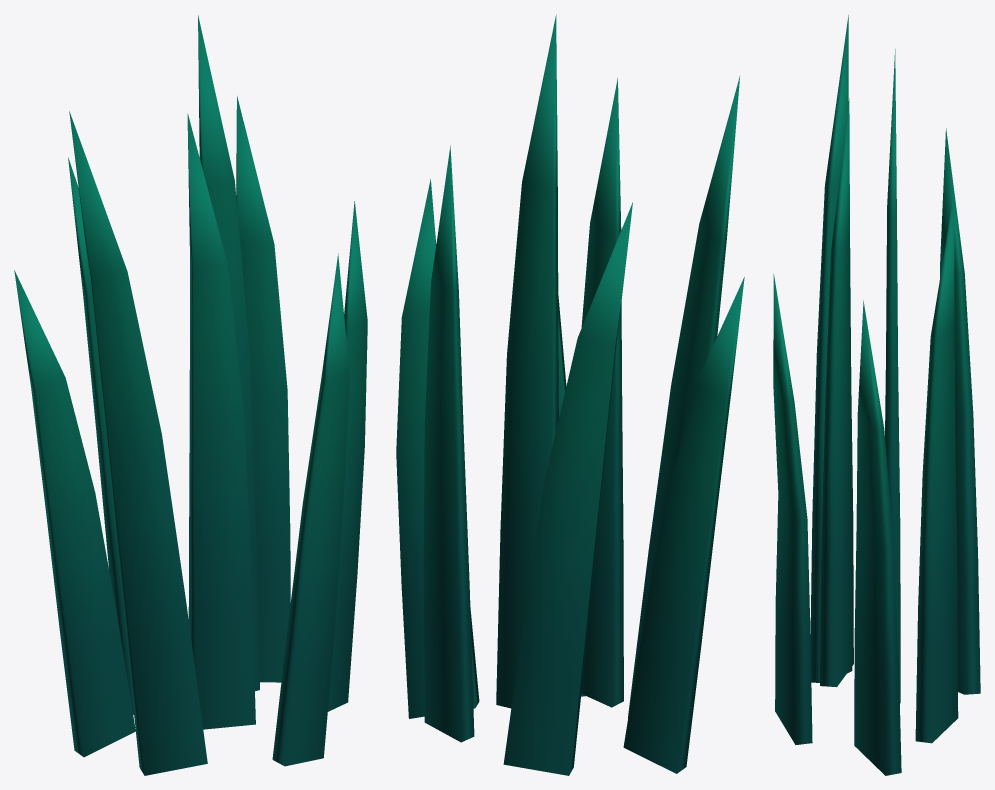
Rendered from Grass.fbx.
The picture shows the model from 3 angles, left to right: view 1: azimuth 30°, elevation 25°; view 2: azimuth 150°, elevation 25°; view 3: azimuth 270°, elevation 25°; orthographic projection. The views are drawn at different scales.
Visible parts, largest first — view 1: Grass; view 2: Grass; view 3: Grass.
Part boxes in pixels (x1,y1,x2,y2): Grass: (14, 15, 367, 775); Grass: (396, 14, 744, 775); Grass: (773, 15, 980, 775).
Size of the model in its own units: 2.09 by 4.19 by 1.18.
